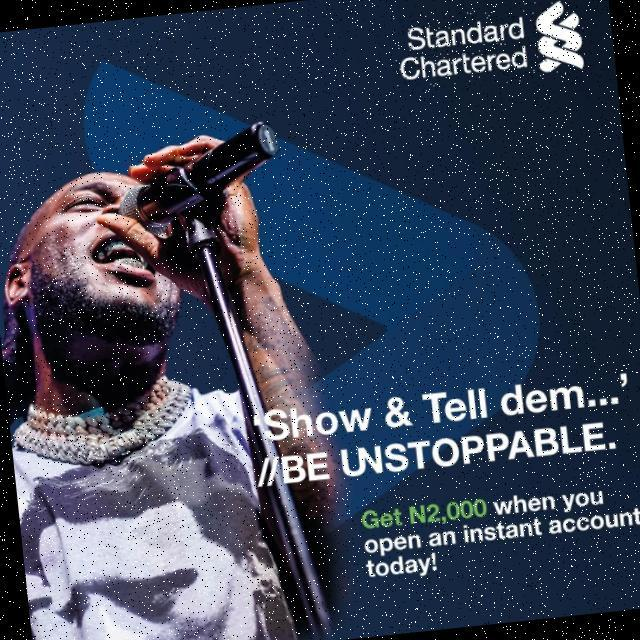Standard Chartered: (390, 0, 588, 95)
